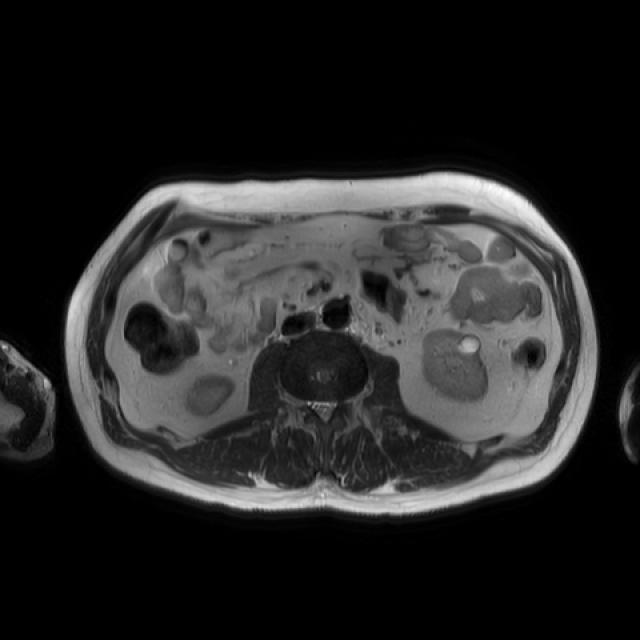sag: (188, 374, 236, 416)
sol: (425, 331, 491, 403)
